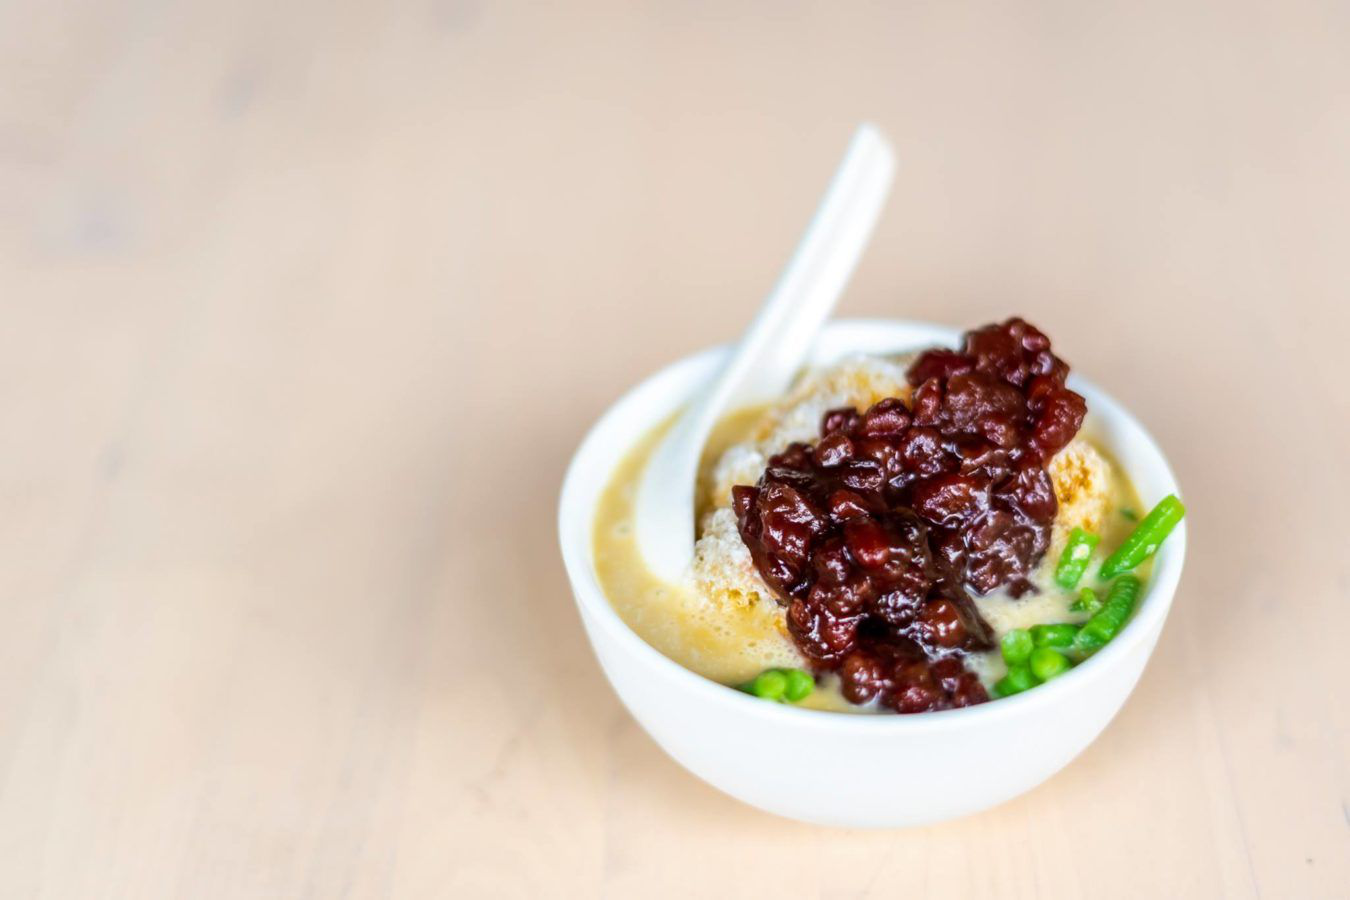Chendol: (622, 279, 1161, 749)
